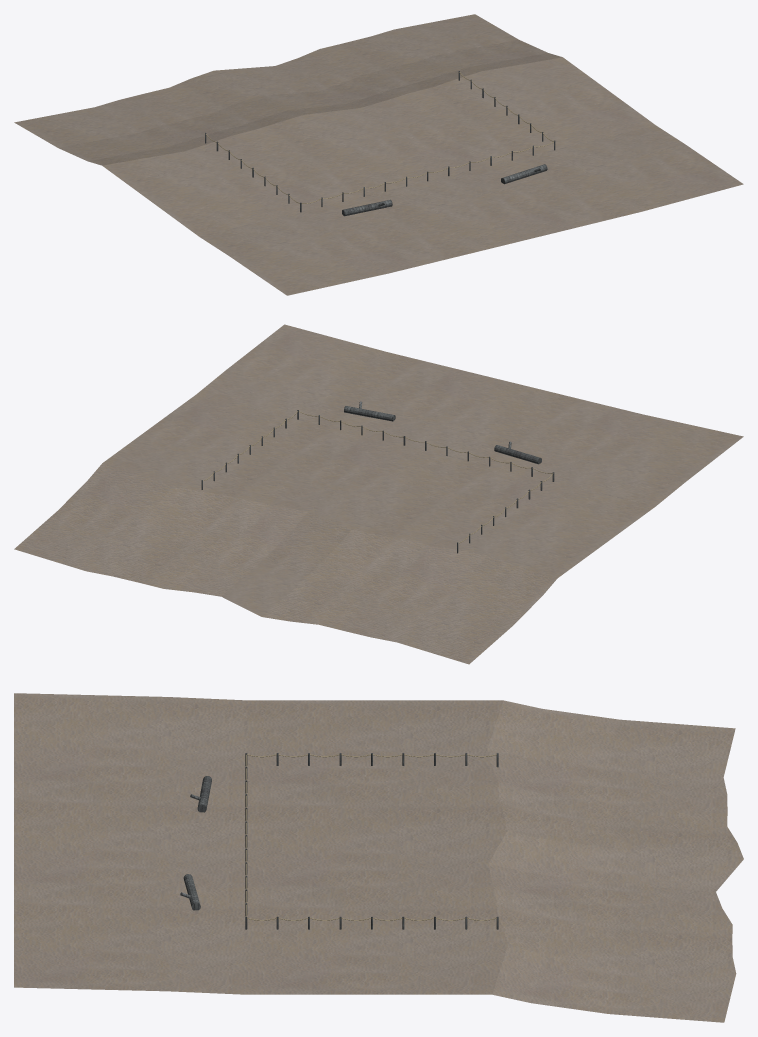
The model's file is fish_hoek_beach.glb.
The picture shows the model from 3 angles, top to bottom: view 1: azimuth 30°, elevation 25°; view 2: azimuth 150°, elevation 25°; view 3: azimuth 270°, elevation 25°; orthographic projection. The views are drawn at different scales.
Parts seen in each view (by area): view 1: fish_hoek_beach_BakedForeground, fish_hoek_beach_rope; view 2: fish_hoek_beach_BakedForeground, fish_hoek_beach_rope; view 3: fish_hoek_beach_BakedForeground, fish_hoek_beach_rope.
Boxes of the visible parts, x1,y1,x2,y2 form: fish_hoek_beach_BakedForeground: (14, 14, 743, 295); fish_hoek_beach_rope: (205, 72, 553, 203); fish_hoek_beach_BakedForeground: (14, 324, 743, 664); fish_hoek_beach_rope: (203, 411, 553, 543); fish_hoek_beach_BakedForeground: (14, 693, 743, 1022); fish_hoek_beach_rope: (245, 754, 496, 920).
Size of what is drawn, in the model's own units: 36 by 2.31 by 37.72.
Materials: 3 (2 with a texture image).
